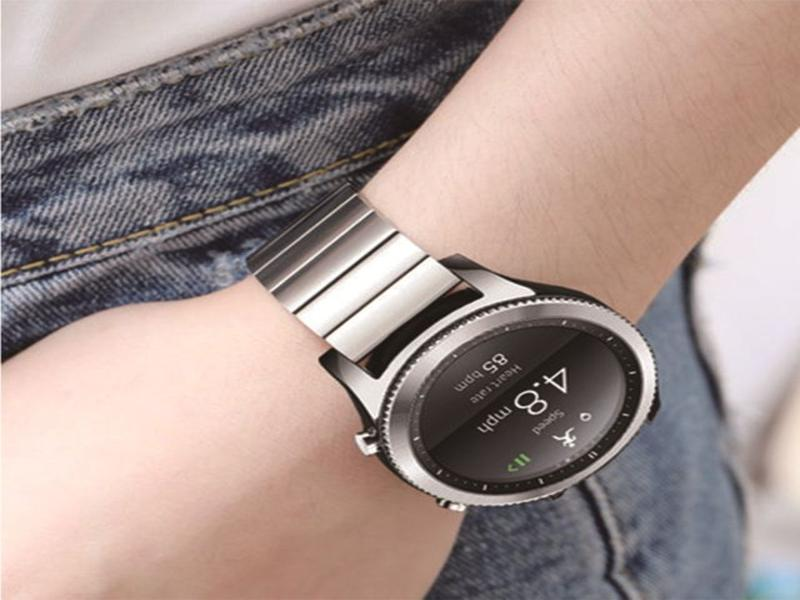watch: (243, 178, 665, 510)
